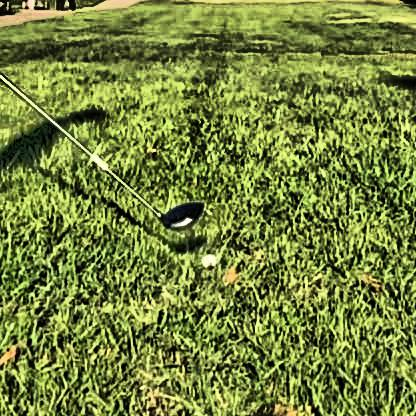golfball: (199, 250, 214, 264)
